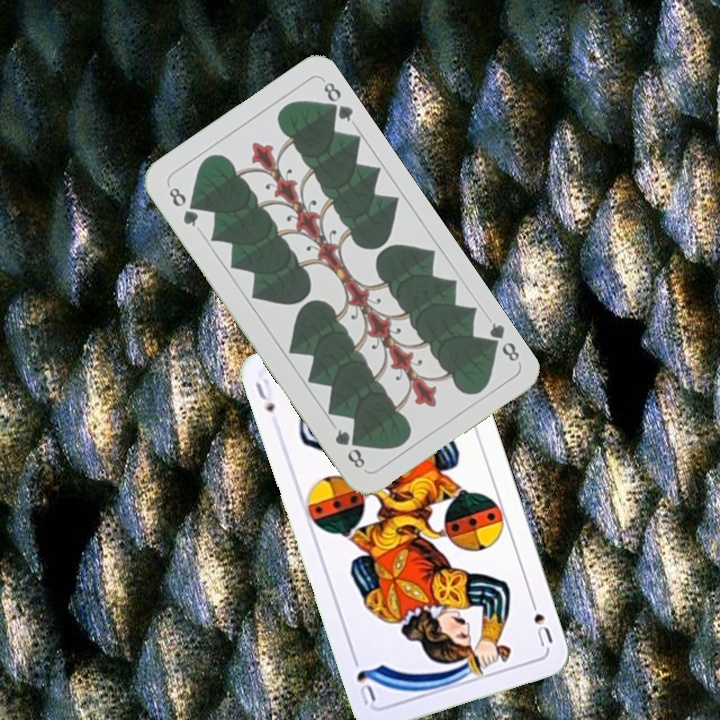G8: (480, 318, 523, 365), (164, 182, 201, 230)
SU: (525, 593, 556, 649), (251, 378, 277, 415)
